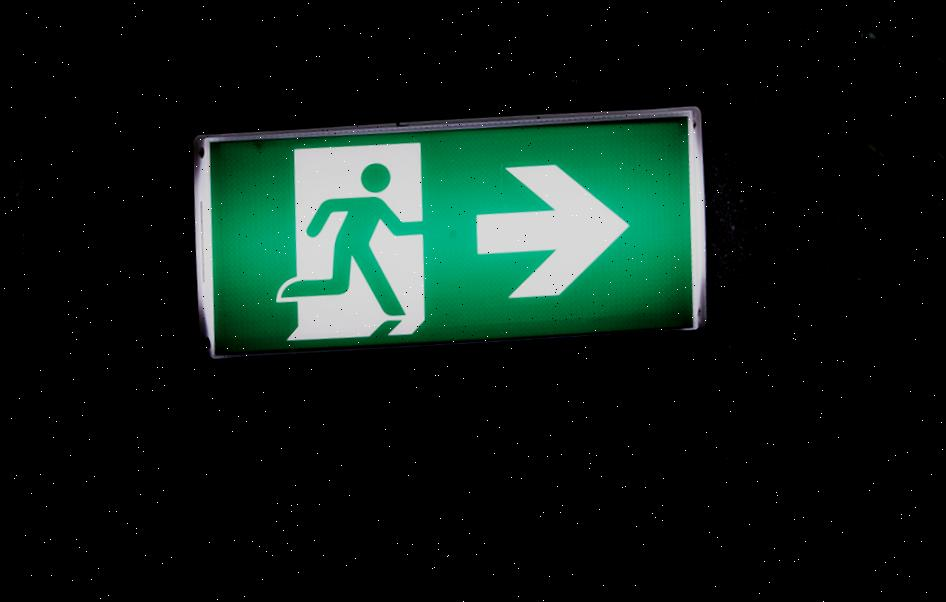emergency_exit: (192, 106, 708, 360)
